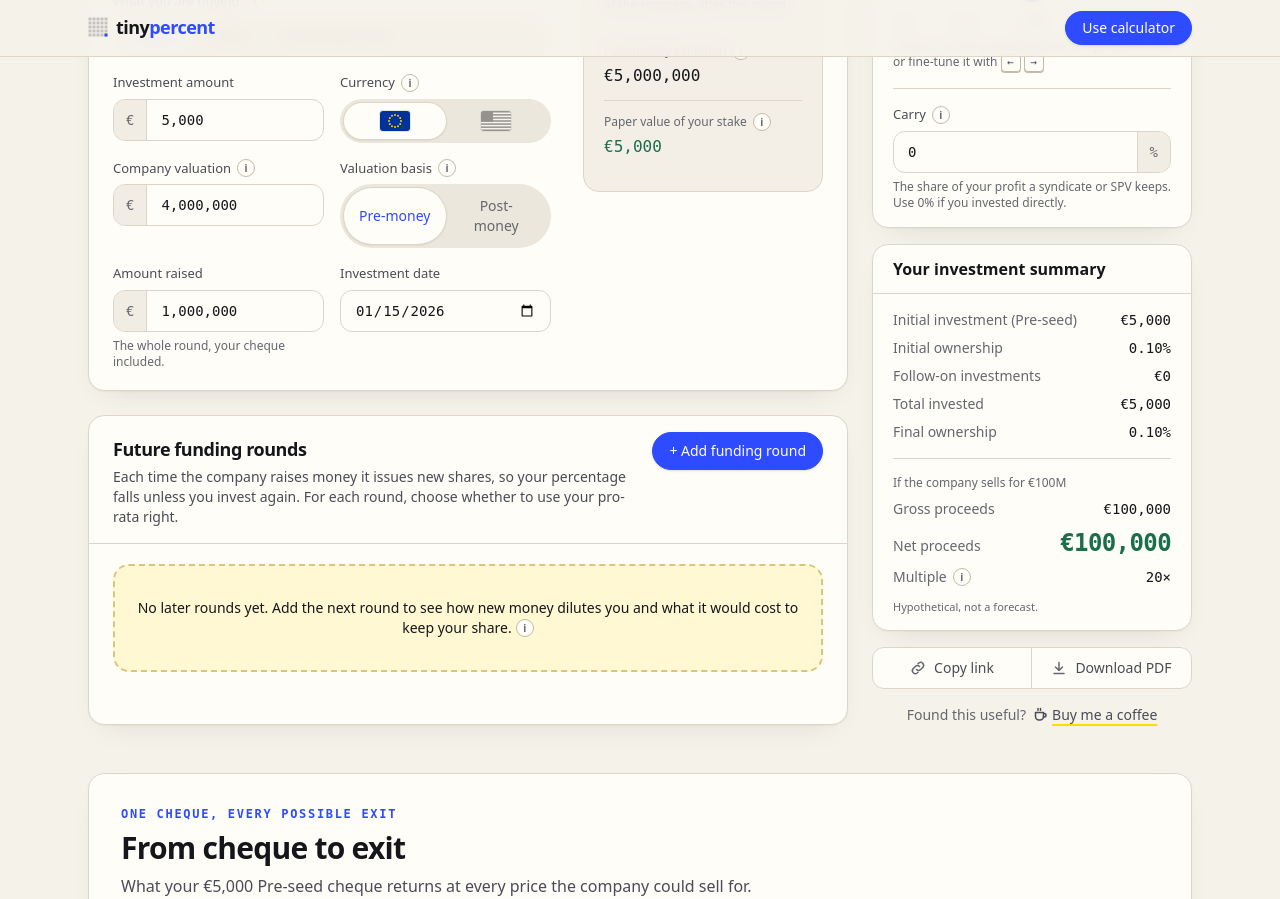
Test case: a single cheque with no later rounds › gives way to the follow-on comparison once a round is added
(page scrolled)
What coordinates should you click on to do the following:
click the button "+ Add funding round"
I would click on:
 (738, 450)
Its box is [652, 432, 823, 470].
(page scrolled)
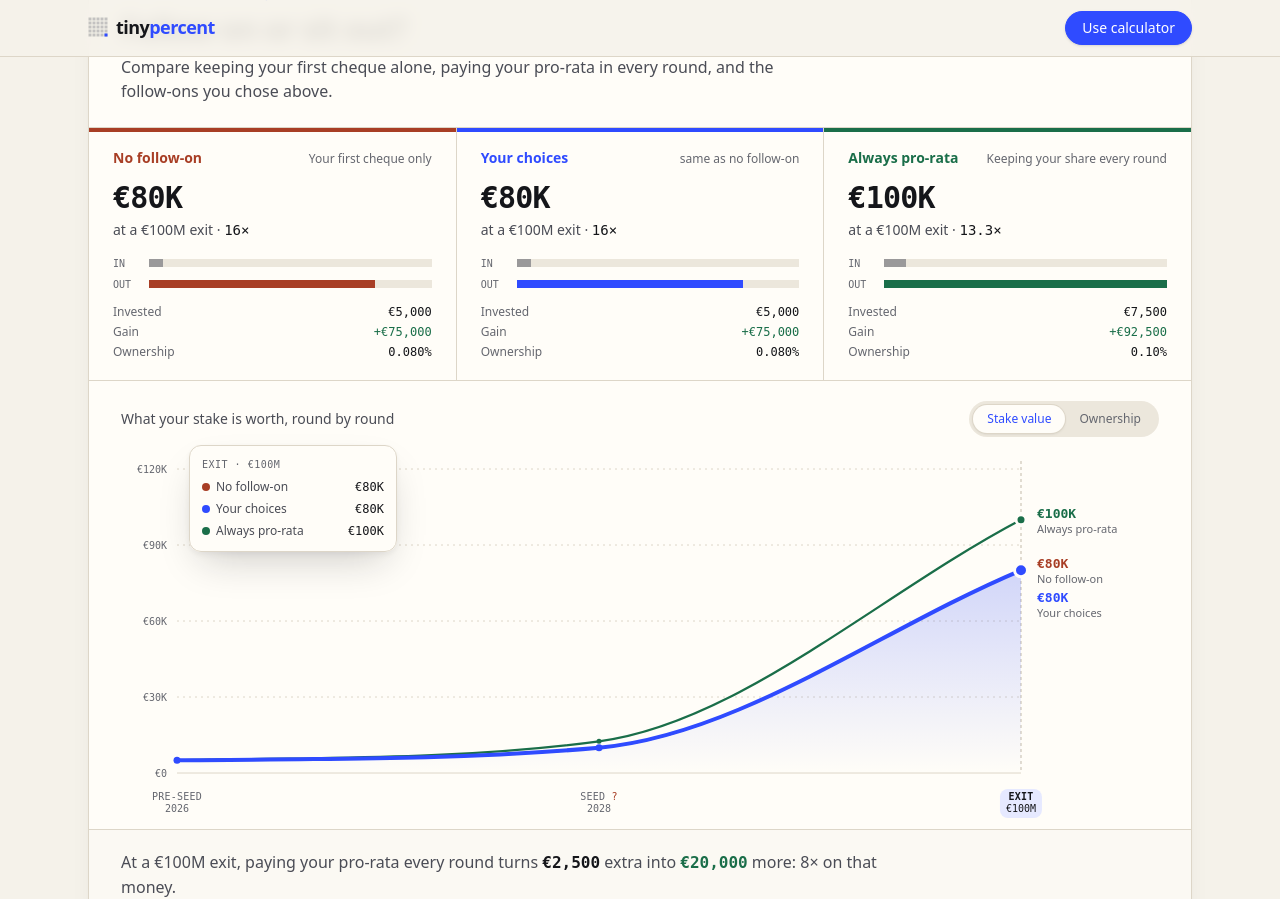
Result: the heading "From cheque to exit" is gone
